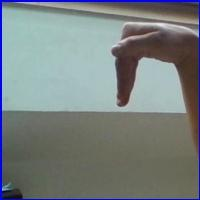A: (107, 21, 193, 114)
